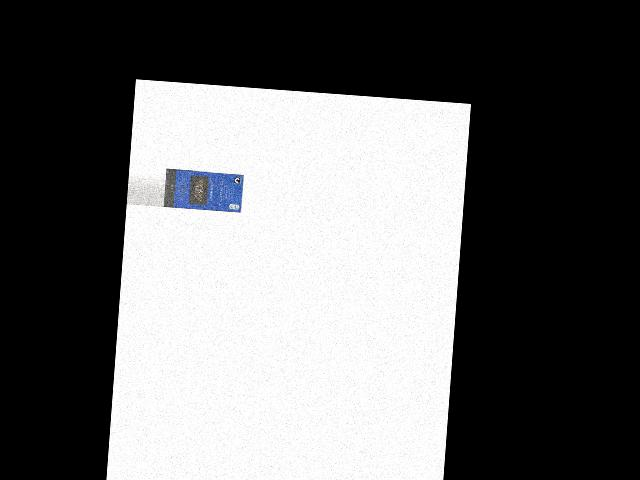chocolate: (163, 168, 242, 213)
